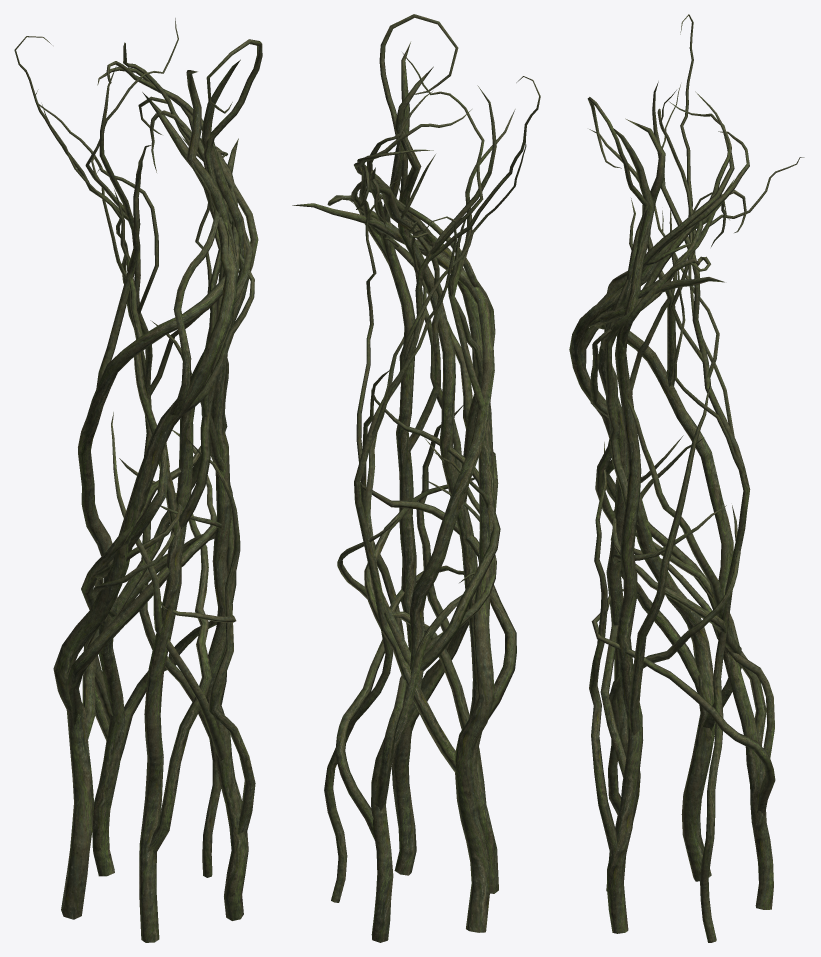
File: Tree_07_1_Liana_L0.fbx
The picture shows the model from 3 angles, left to right: view 1: azimuth 30°, elevation 25°; view 2: azimuth 150°, elevation 25°; view 3: azimuth 270°, elevation 25°; orthographic projection. The views are drawn at different scales.
Visible parts, largest first — view 1: Bark2_MatSG; view 2: Bark2_MatSG; view 3: Bark2_MatSG.
Part boxes in pixels (x1=…): Bark2_MatSG: x1=14, y1=18, x2=262, y2=942; Bark2_MatSG: x1=292, y1=14, x2=540, y2=942; Bark2_MatSG: x1=569, y1=14, x2=804, y2=942.
Size of the model in its own units: 713 by 2522 by 645.
